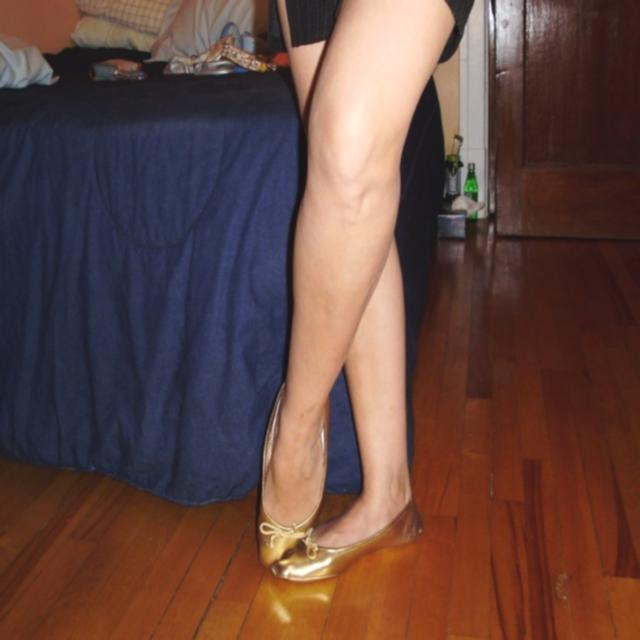piel: (265, 0, 456, 552)
